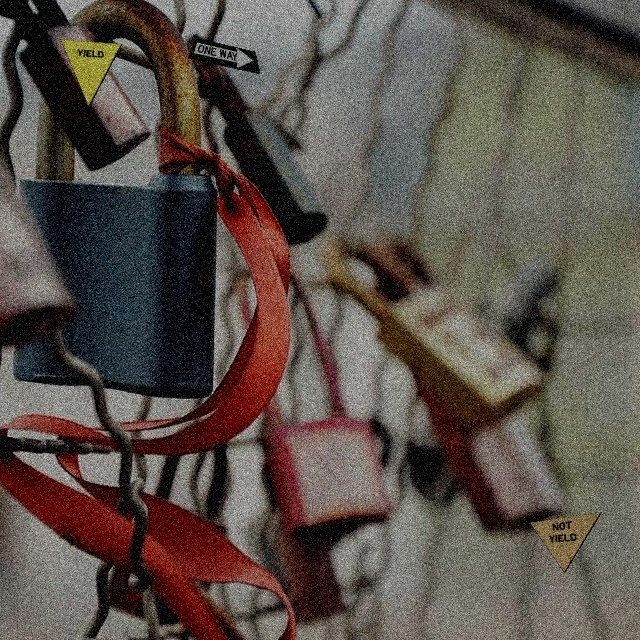NOT_YIELD: (529, 511, 602, 573)
ONE_WAY_ right: (187, 37, 260, 74)
YIELD: (60, 39, 122, 108)
